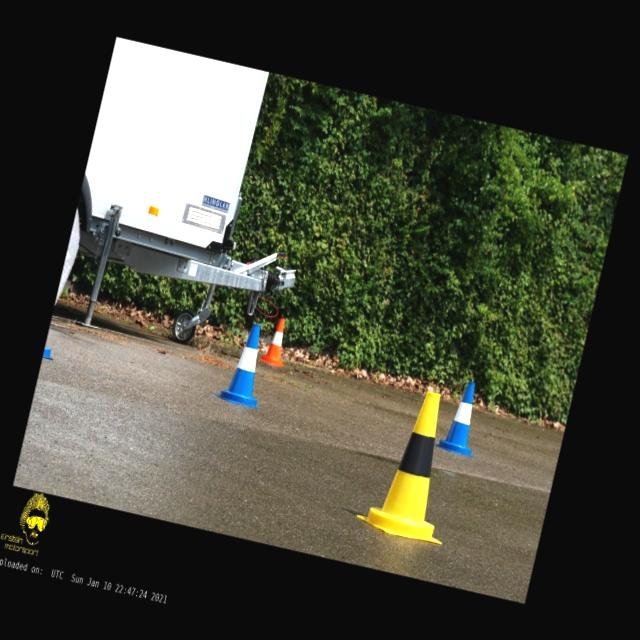blue_cone: (213, 318, 279, 408), (433, 377, 492, 458)
orange_cone: (260, 315, 294, 367)
yellow_cone: (354, 381, 474, 545)
